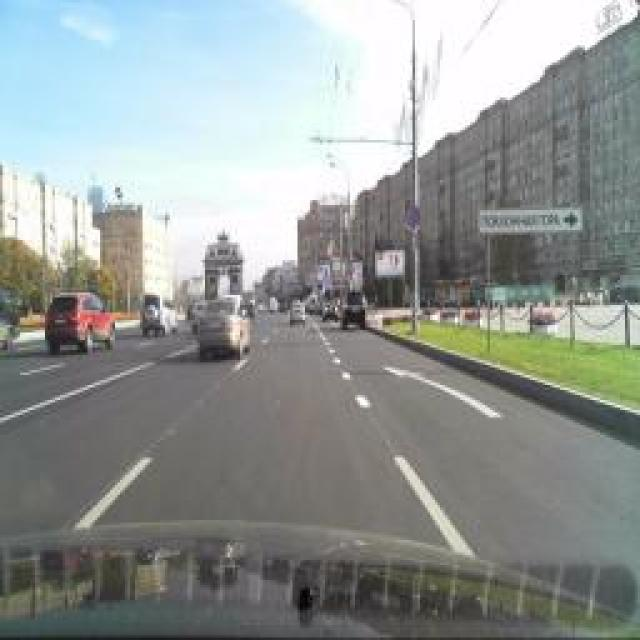sign: (409, 204, 421, 226)
